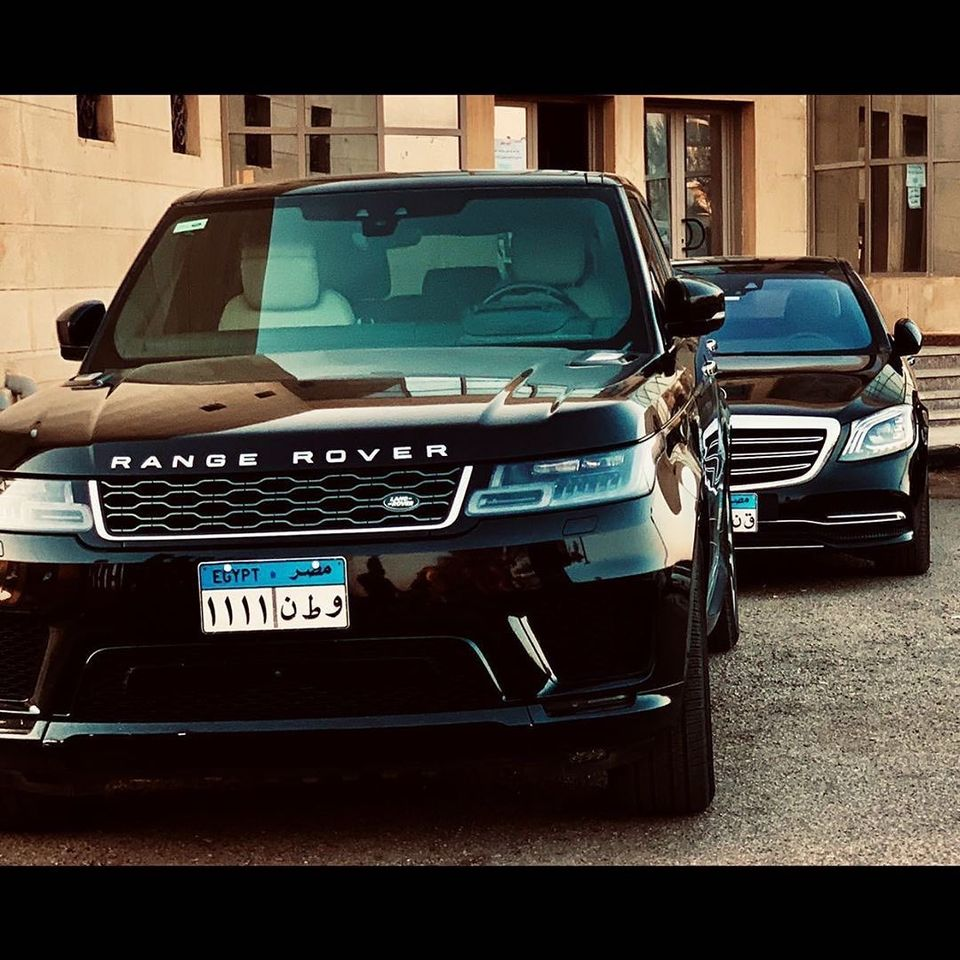carpl: (203, 587, 348, 630)
